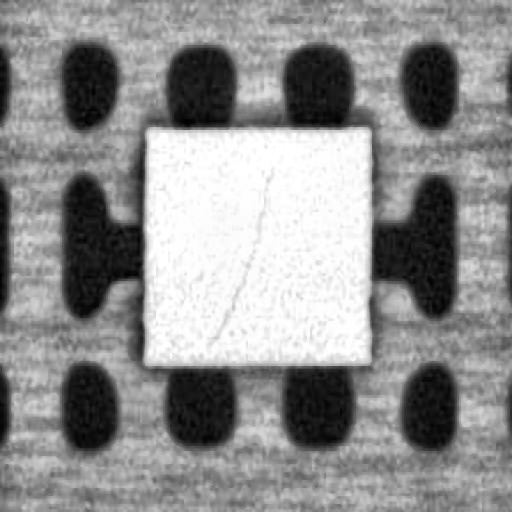DIE_CRACK: (207, 162, 273, 339)
